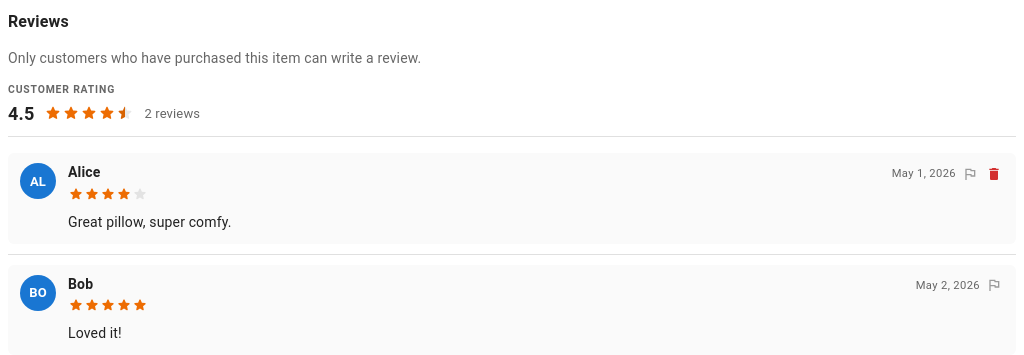
Test case: Reviews › removes a review from the list after a successful delete
Check: the text "Great pillow, super comfy." is shown, box [68,214,232,230]
Click the button named "Delete review": (994, 174) [984,164,1004,184]
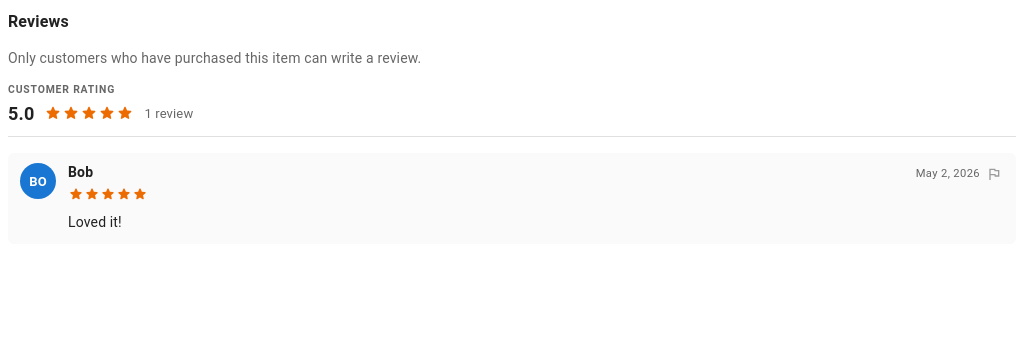
Check: the text "Loved it!" is shown, box [68,214,122,230]
Check: the text "Great pillow, super comfy." is gone
Check: the text "1 review" is shown, box [144,106,193,121]
